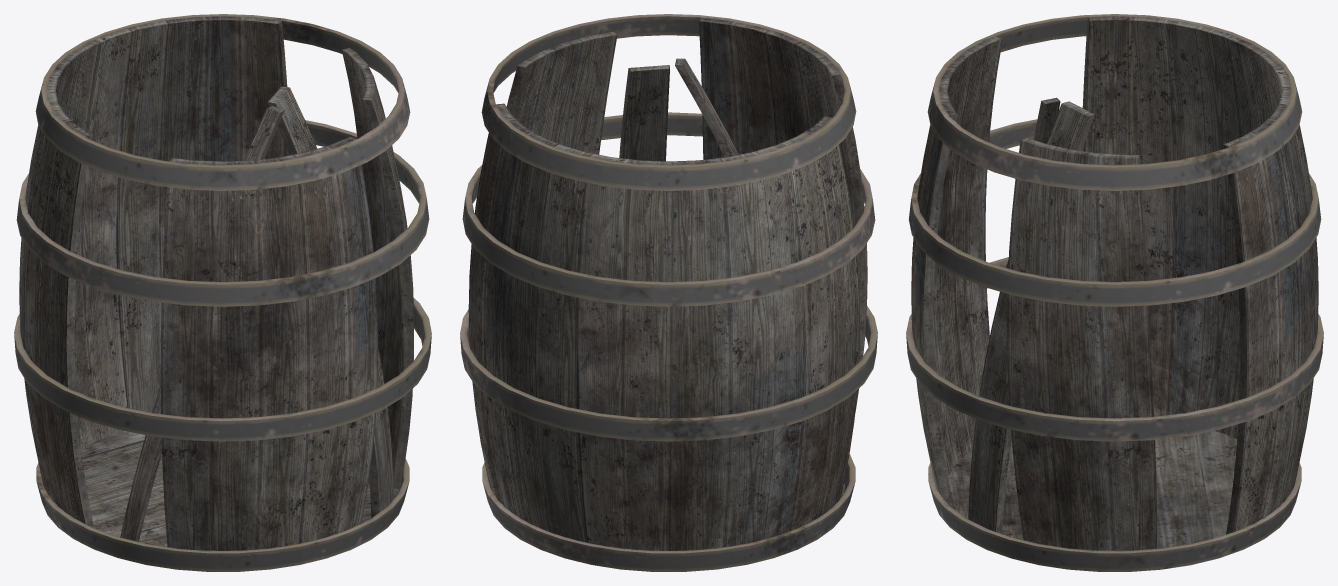
The model's file is SM_Barrel03.FBX.
3 renders of one model, left to right at view 1: azimuth 30°, elevation 25°; view 2: azimuth 150°, elevation 25°; view 3: azimuth 270°, elevation 25°, orthographic.
Parts seen in each view (by area): view 1: SM_Barrel03; view 2: SM_Barrel03; view 3: SM_Barrel03.
Part boxes in pixels (x1,y1,x2,y2): SM_Barrel03: [14, 14, 431, 571]; SM_Barrel03: [460, 14, 877, 571]; SM_Barrel03: [906, 14, 1323, 571].
Bounding box in the file's own units: 140 × 150 × 140.
